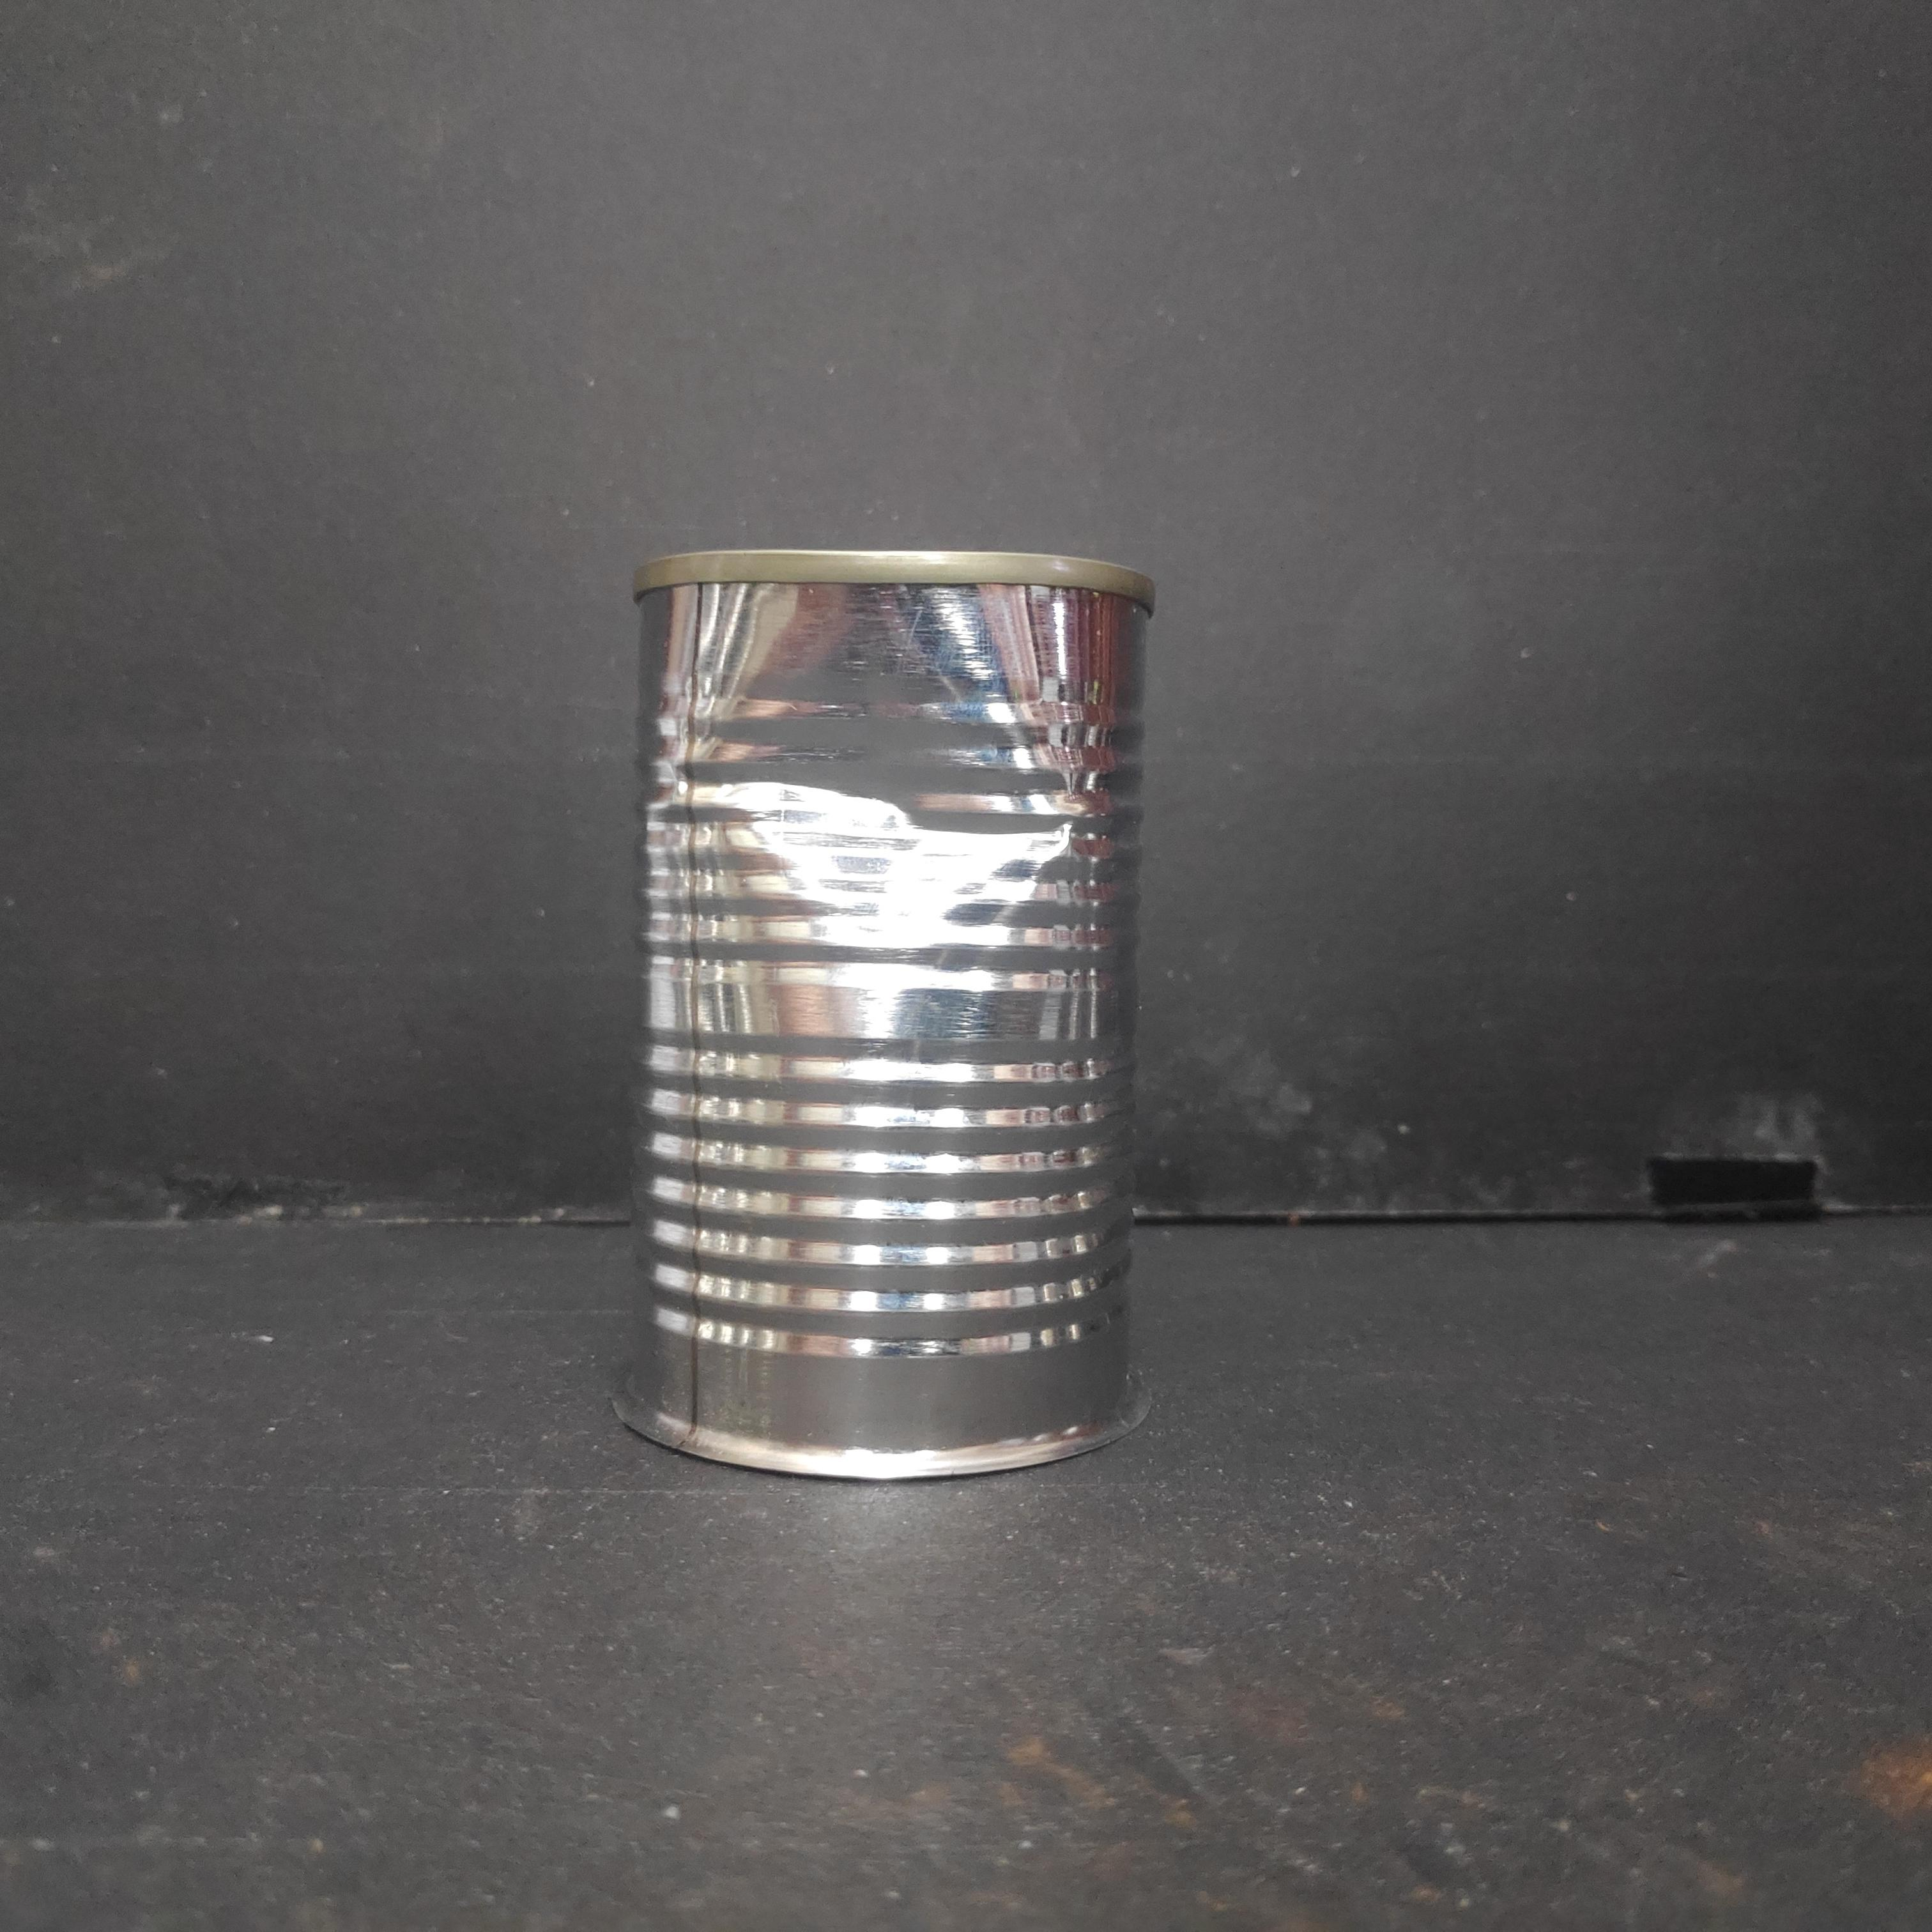Minor Defect: (617, 534, 1164, 1490)
